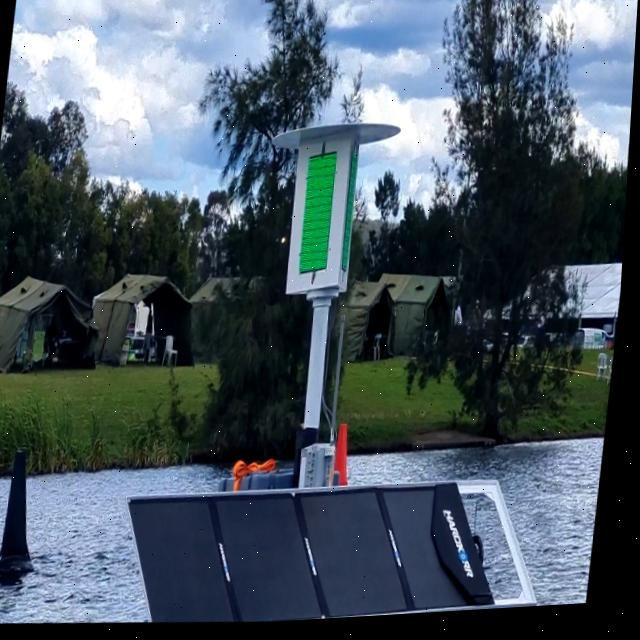led: (294, 141, 353, 285)
